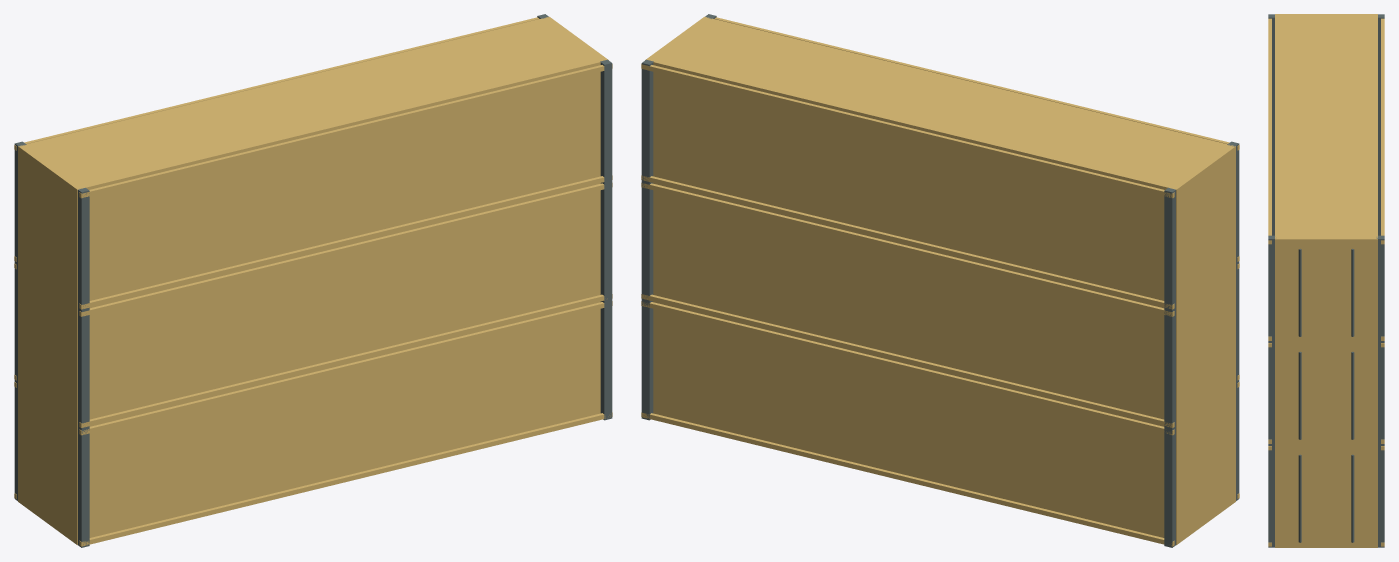
3 renders of one model, left to right at view 1: azimuth 30°, elevation 25°; view 2: azimuth 150°, elevation 25°; view 3: azimuth 270°, elevation 25°, orthographic. The views are drawn at different scales.
Bounding box in the file's own units: 12.36 × 7.8 × 2.66.
